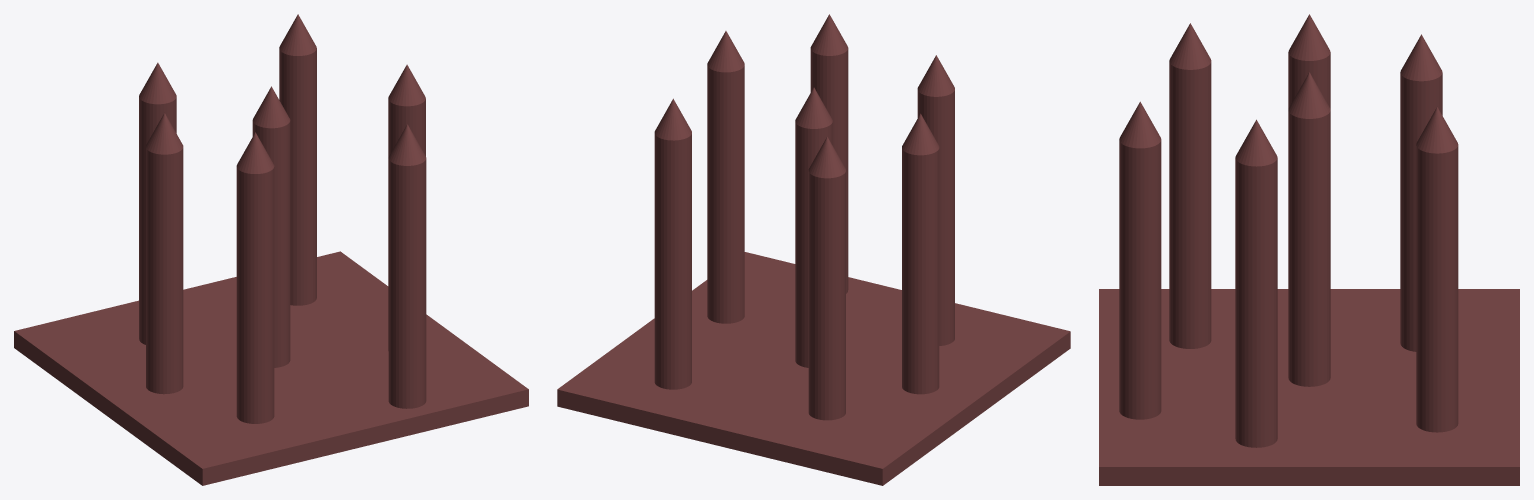
File: spikepit.glb
The picture shows the model from 3 angles, left to right: view 1: azimuth 30°, elevation 25°; view 2: azimuth 150°, elevation 25°; view 3: azimuth 270°, elevation 25°; orthographic projection. The views are drawn at different scales.
Parts seen in each view (by area): view 1: Cube, Cone.001, Cone.006, Cone.005, Cone.003, Cone, Cone.004, Cone.002; view 2: Cube, Cone.002, Cone.003, Cone.004, Cone.005, Cone.001, Cone, Cone.006; view 3: Cube, Cone.002, Cone.001, Cone.003, Cone.006, Cone, Cone.004, Cone.005.
Boxes of the visible parts, x1=… form: Cube: x1=14, y1=251, x2=528, y2=485; Cone.001: x1=236, y1=132, x2=274, y2=423; Cone.006: x1=388, y1=124, x2=426, y2=408; Cone.005: x1=146, y1=113, x2=183, y2=394; Cone.003: x1=279, y1=14, x2=316, y2=305; Cone: x1=252, y1=86, x2=290, y2=367; Cone.004: x1=139, y1=62, x2=176, y2=344; Cone.002: x1=388, y1=64, x2=425, y2=350; Cube: x1=557, y1=252, x2=1070, y2=485; Cone.002: x1=707, y1=31, x2=744, y2=323; Cone.003: x1=654, y1=98, x2=691, y2=389; Cone.004: x1=808, y1=136, x2=845, y2=420; Cone.005: x1=902, y1=113, x2=939, y2=394; Cone.001: x1=917, y1=55, x2=954, y2=345; Cone: x1=795, y1=87, x2=832, y2=367; Cone.006: x1=810, y1=14, x2=848, y2=293; Cube: x1=1099, y1=289, x2=1519, y2=485; Cone.002: x1=1235, y1=119, x2=1277, y2=447; Cone.001: x1=1169, y1=23, x2=1211, y2=348; Cone.003: x1=1416, y1=107, x2=1458, y2=432; Cone.006: x1=1119, y1=101, x2=1161, y2=419; Cone: x1=1288, y1=72, x2=1330, y2=386; Cone.004: x1=1400, y1=34, x2=1442, y2=351; Cone.005: x1=1288, y1=14, x2=1330, y2=109.
Size of the model in its own units: 4 by 3.55 by 4.
